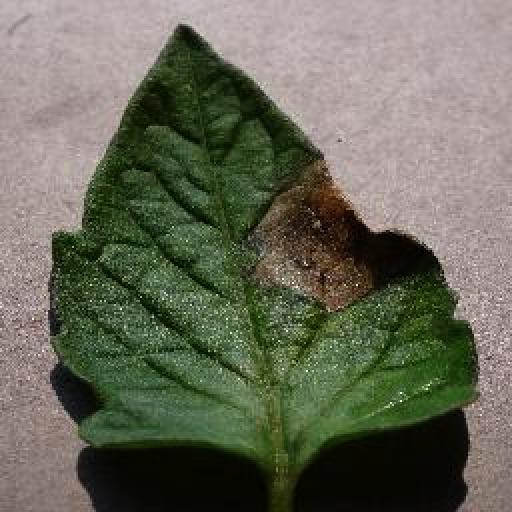disease_tomato: (54, 23, 486, 457)
